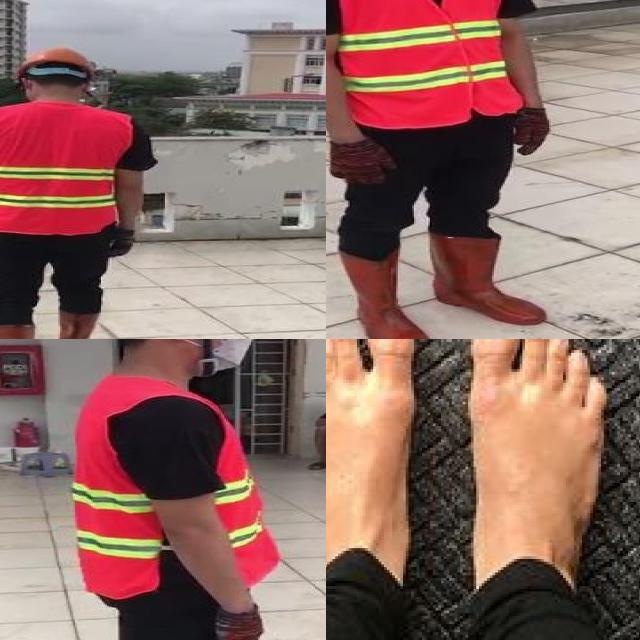Barefoots: (326, 339, 608, 612)
boots: (427, 231, 548, 325), (339, 249, 431, 339), (55, 310, 101, 339)
face_mask: (188, 339, 259, 373)
hand_glove: (329, 139, 398, 189), (206, 609, 267, 640), (515, 105, 549, 154), (108, 230, 133, 258)
head_helmet: (16, 46, 101, 74)
person: (326, 0, 566, 339), (45, 339, 305, 640), (0, 43, 151, 339)
vest: (73, 376, 280, 600), (337, 0, 518, 129), (0, 106, 126, 234)
